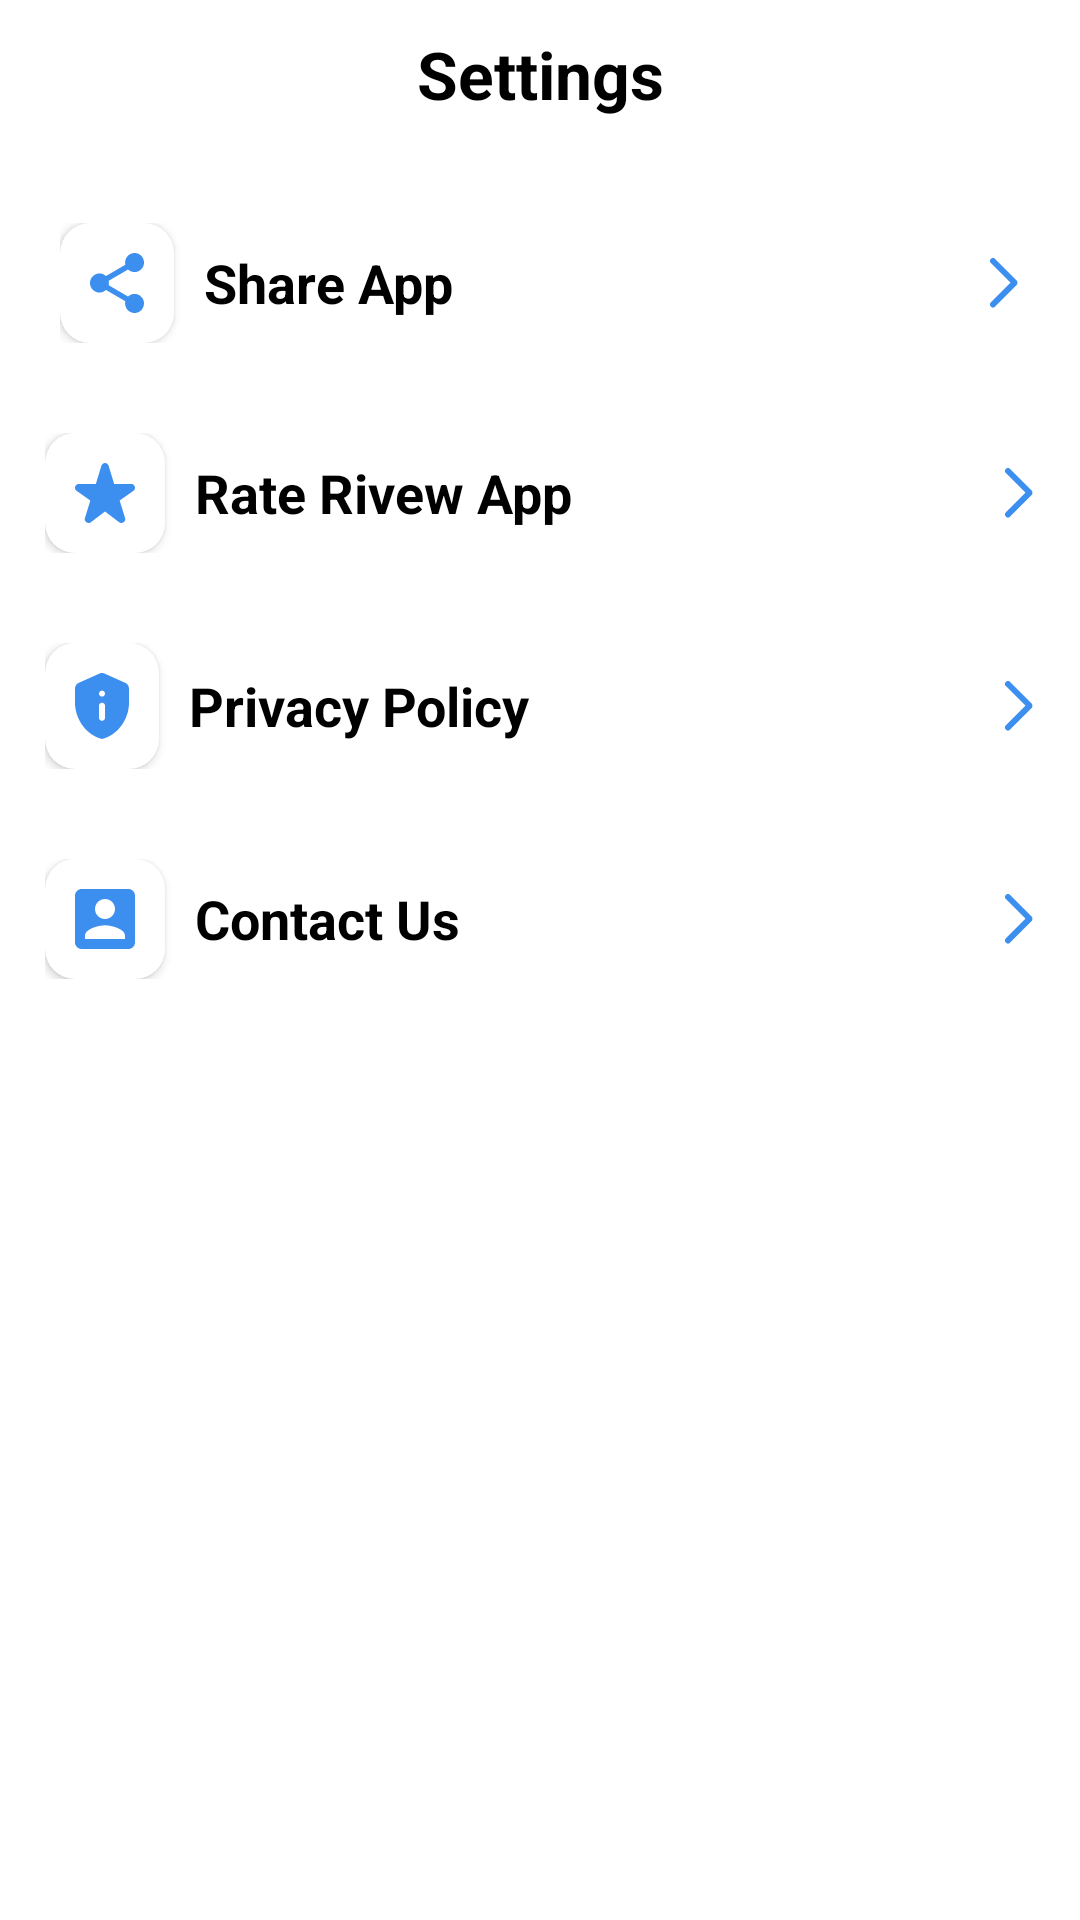

Named icons in this screenshot (1080 × 1920) and their bounding boxes, BBox(x1, y1, x2, y2):
next: BBox(990, 258, 1018, 308), BBox(1005, 468, 1033, 518), BBox(1005, 681, 1033, 731), BBox(1005, 894, 1033, 944)
